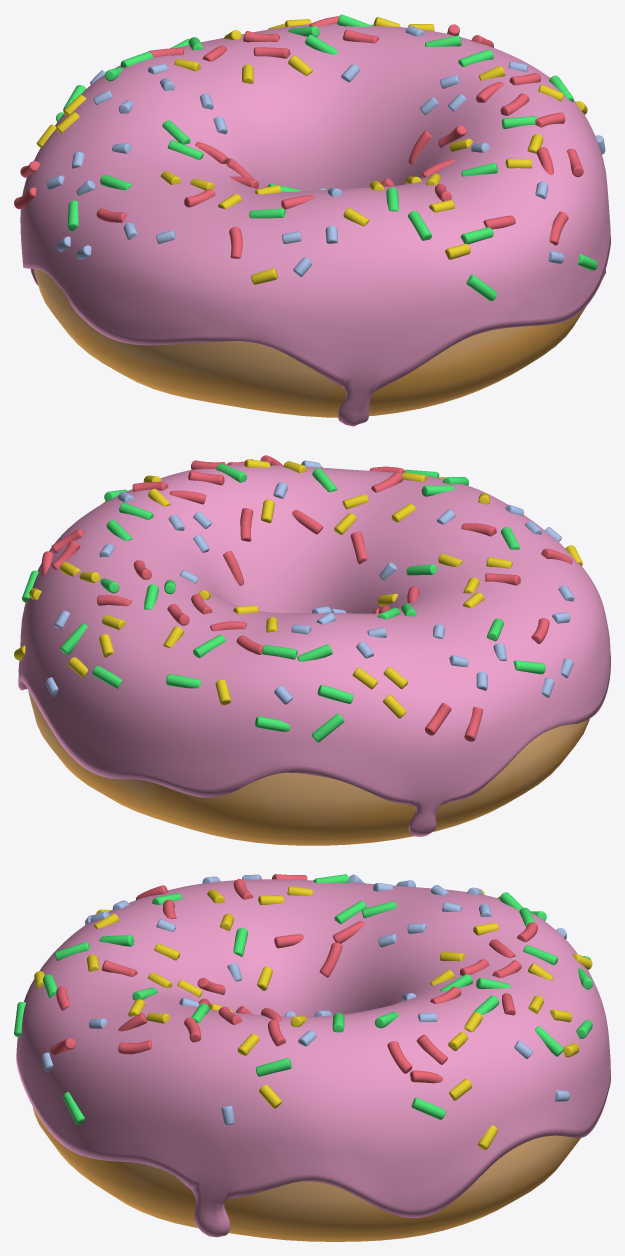
Rendered from donut.glb.
The picture shows the model from 3 angles, top to bottom: view 1: azimuth 30°, elevation 25°; view 2: azimuth 150°, elevation 25°; view 3: azimuth 270°, elevation 25°; orthographic projection. The views are drawn at different scales.
Visible parts, largest first — view 1: Icing.001, Donut.002; view 2: Icing.001, Donut.002; view 3: Icing.001, Donut.002.
Boxes of the visible parts, bbox=[...] form: Icing.001: bbox=[14, 16, 610, 426]; Donut.002: bbox=[33, 268, 586, 417]; Icing.001: bbox=[14, 455, 610, 836]; Donut.002: bbox=[28, 690, 589, 845]; Icing.001: bbox=[14, 874, 610, 1237]; Donut.002: bbox=[33, 1107, 580, 1241].
Size of the model in its own units: 0.122 by 0.0511 by 0.1232.
Materials: 6 (1 with a texture image).
